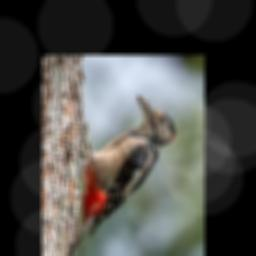Woodpecker: (67, 95, 176, 256)
